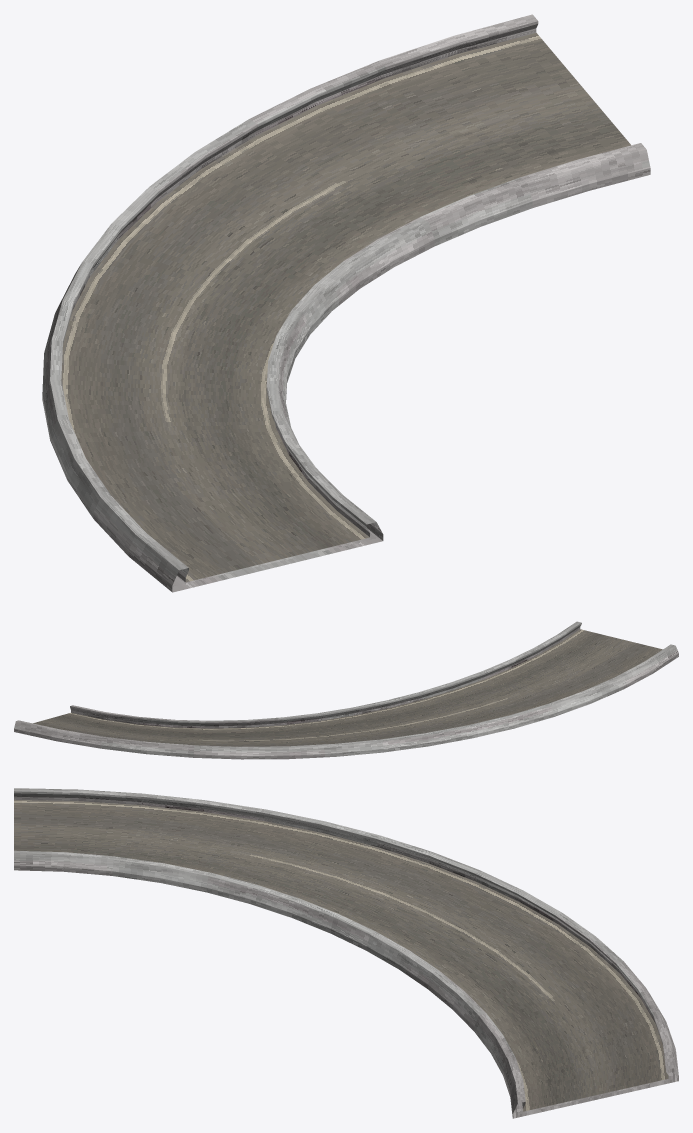
File: road-Turn-Flat-HalfBankedRight-Down1-Right-Size4.glb
3 views of the same model, one above another, from view 1: azimuth 30°, elevation 25°; view 2: azimuth 150°, elevation 25°; view 3: azimuth 270°, elevation 25° (orthographic). The views are drawn at different scales.
Parts seen in each view (by area): view 1: road-Turn-Flat-HalfBankedRight-Down1-Right-Size4; view 2: road-Turn-Flat-HalfBankedRight-Down1-Right-Size4; view 3: road-Turn-Flat-HalfBankedRight-Down1-Right-Size4.
Part boxes in pixels (x1=…): road-Turn-Flat-HalfBankedRight-Down1-Right-Size4: x1=42, y1=14, x2=650, y2=592; road-Turn-Flat-HalfBankedRight-Down1-Right-Size4: x1=14, y1=621, x2=678, y2=759; road-Turn-Flat-HalfBankedRight-Down1-Right-Size4: x1=14, y1=788, x2=678, y2=1118.
Bounding box in the file's own units: 4 × 0.3438 × 4.
2 materials, 2 textured.
